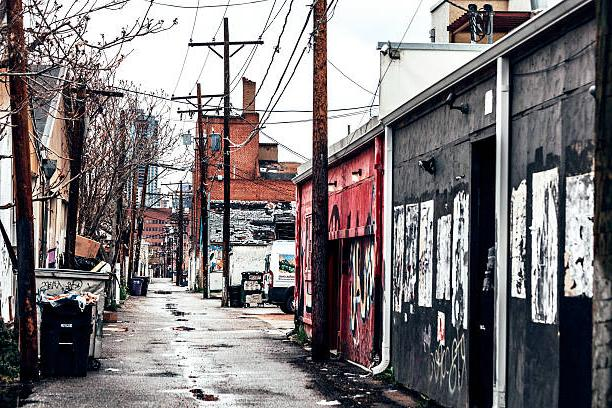graffiti: (394, 190, 468, 345), (511, 168, 559, 324), (565, 174, 593, 296), (430, 334, 466, 391), (38, 279, 88, 294)
trash_can_overflow: (37, 294, 99, 305)
